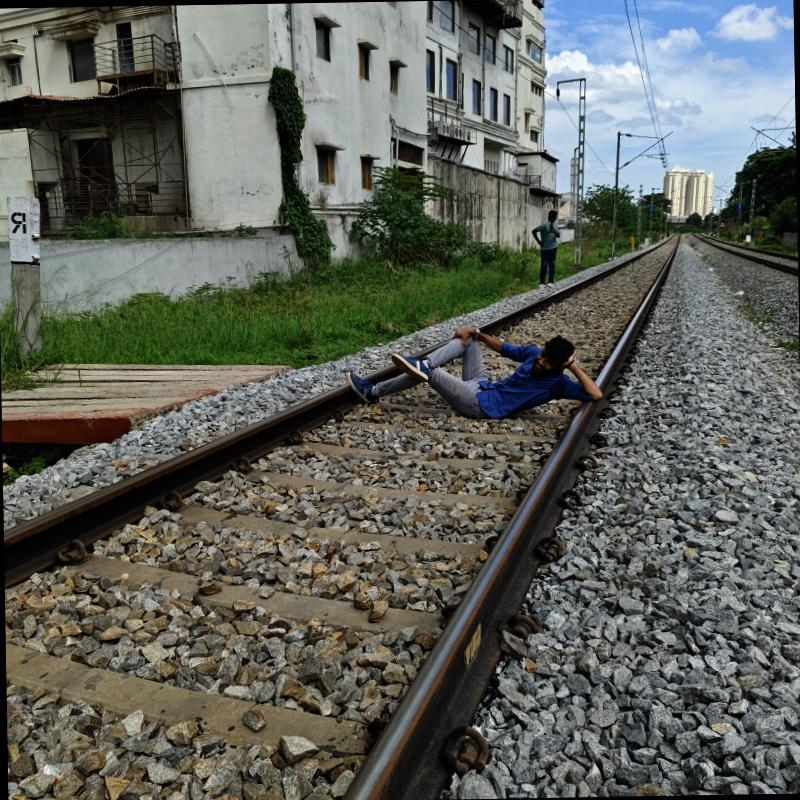sleeping: (334, 326, 607, 420)
